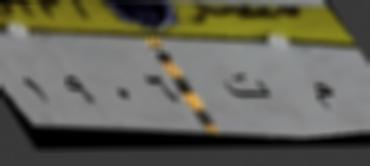0: (111, 79, 139, 106)
1: (22, 68, 53, 111)
6: (144, 69, 182, 110)
9: (63, 62, 105, 113)
meem: (300, 74, 346, 118)
taa: (220, 58, 270, 113)
